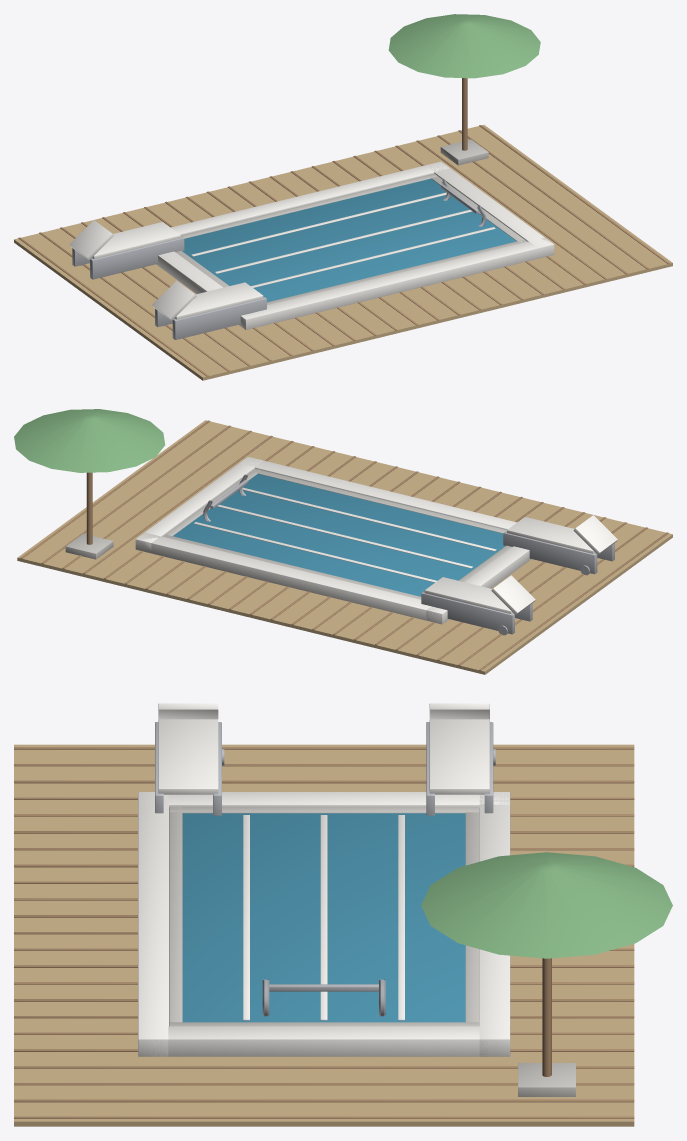
The model's file is th47_pool.glb.
3 renders of one model, top to bottom at view 1: azimuth 30°, elevation 25°; view 2: azimuth 150°, elevation 25°; view 3: azimuth 270°, elevation 25°, orthographic. The views are drawn at different scales.
Visible parts, largest first — view 1: Cube, Cube.033, Cone, Cube.024, Cube.026, Cube.027, Cube.038, Cube.042, Cube.040, Cube.044, Cube.025, Cube.030 (+11 smaller); view 2: Cube, Cube.033, Cone, Cube.026, Cube.024, Cube.027, Cube.039, Cube.043, Cube.025, Cube.040, Cube.044, Cube.028 (+15 smaller); view 3: Cube, Cube.033, Cone, Cube.027, Cube.024, Cube.026, Cube.040, Cube.044, Cube.025, Cube.028, Cube.022, Cube.029 (+26 smaller).
Boxes of the visible parts, x1,y1,x2,y2 form: Cube: (14, 125, 672, 380); Cube.033: (182, 178, 516, 302); Cone: (388, 14, 540, 78); Cube.024: (239, 237, 554, 329); Cube.026: (170, 161, 448, 234); Cube.027: (427, 162, 551, 255); Cube.038: (172, 297, 266, 339); Cube.042: (90, 236, 184, 279); Cube.040: (174, 282, 263, 319); Cube.044: (92, 222, 180, 258); Cube.025: (156, 251, 261, 329); Cube.030: (181, 173, 437, 238); Cube: (17, 420, 672, 674); Cube.033: (173, 474, 505, 596); Cone: (14, 409, 165, 472); Cube.026: (135, 532, 449, 624); Cube.024: (239, 457, 516, 529); Cube.027: (135, 458, 261, 549); Cube.039: (503, 531, 597, 574); Cube.043: (421, 591, 514, 634); Cube.025: (426, 546, 531, 623); Cube.040: (507, 517, 595, 553); Cube.044: (424, 577, 512, 613); Cube.028: (251, 468, 506, 533); Cube: (14, 744, 634, 1126); Cube.033: (182, 813, 465, 1022); Cone: (421, 852, 672, 958); Cube.027: (139, 1026, 510, 1056); Cube.024: (138, 792, 168, 1056); Cube.026: (479, 792, 510, 1056); Cube.040: (158, 719, 218, 794); Cube.044: (429, 719, 489, 794); Cube.025: (139, 792, 510, 807); Cube.028: (169, 807, 182, 1026); Cube.022: (14, 1099, 634, 1102); Cube.029: (169, 807, 479, 813).
Size of the model in its own units: 9.6 by 2.54 by 6.8.
